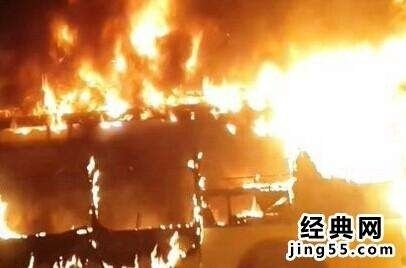fire: (174, 151, 210, 249), (236, 172, 296, 219), (81, 154, 103, 217), (149, 230, 188, 265)
